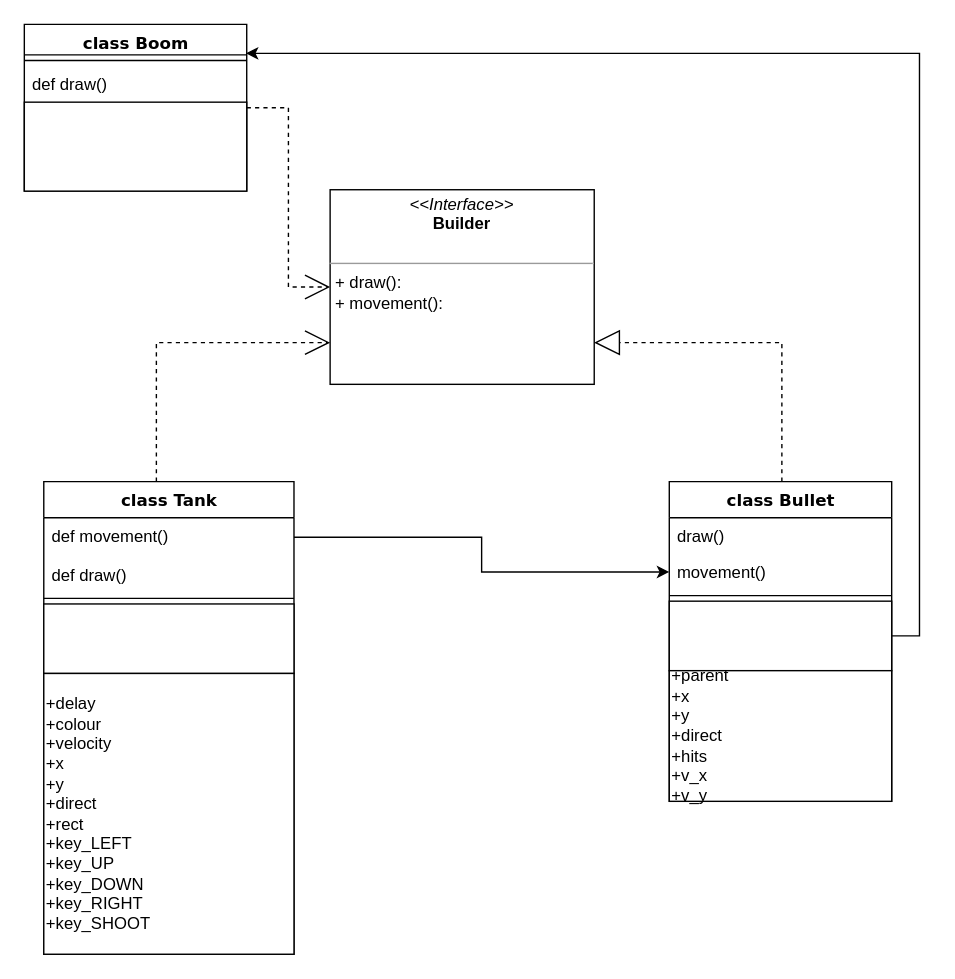
This 955x979 diagram has some shape labels left out. The centre of each missing label's shape, as x and y in pixels:
"+x +y +delay +size_of_boom" belongs at pixel 135 146.
"def __direction_of_the_shoot" belongs at pixel 168 638.
"def __hit_border() def __hitting_rect_tank()" belongs at pixel 780 635.
